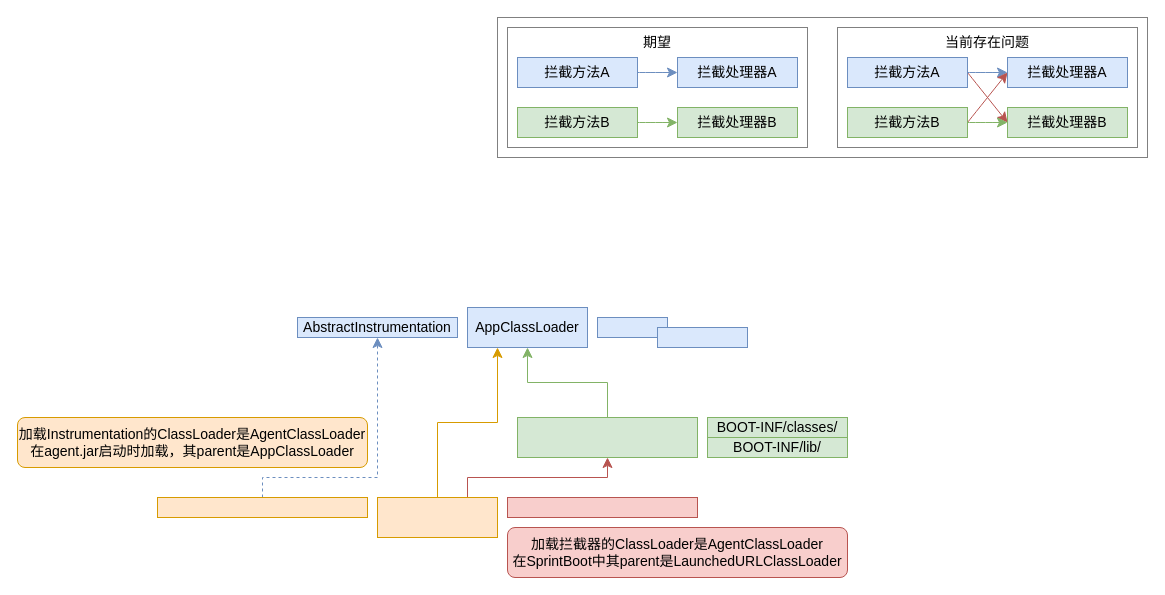
Image size: 1165x595. Some labels were removed from this diagram. Here are the shapes that lost their labels. From the top down, the centre of each, then its label:
pixel 632 327: app.jar
pixel 702 337: dist/agent.jar
pixel 607 437: LaunchedURLClassLoader
pixel 262 507: dist/plugins/xxxInstrumentation
pixel 437 517: AgentClassLoader
pixel 602 507: dist/plugins/xxxInterceptor
